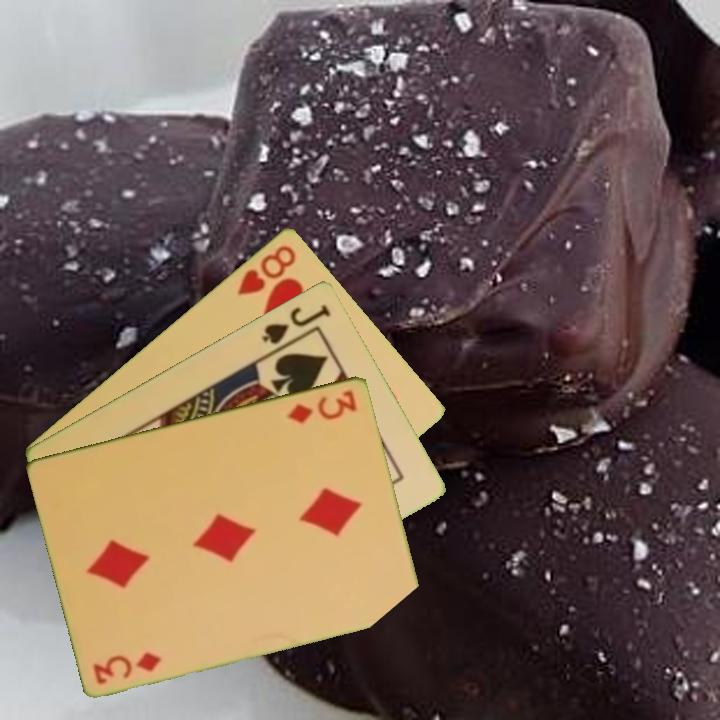3d: (284, 386, 360, 426), (90, 648, 165, 687)
8h: (233, 241, 299, 298)
Js: (258, 300, 334, 347)
